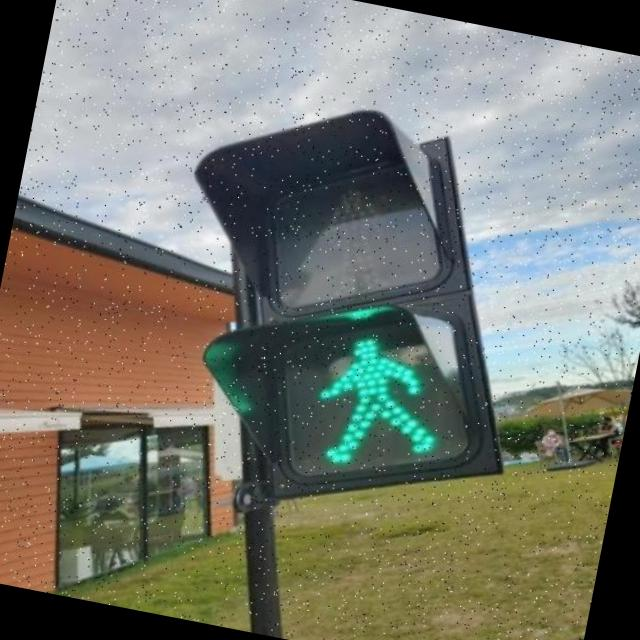green_light: (248, 301, 470, 518)
